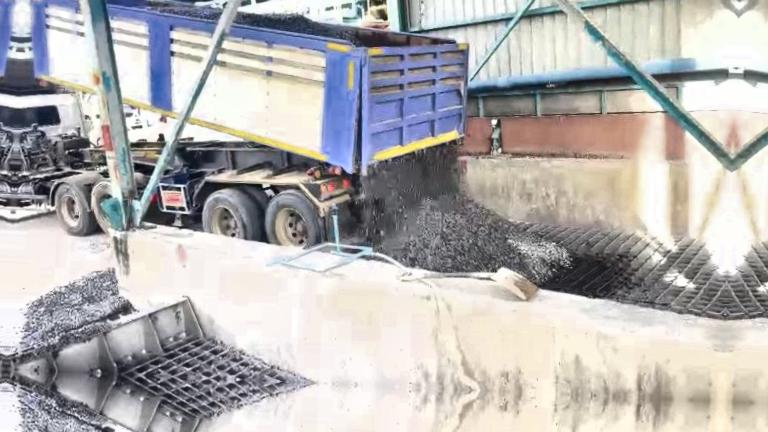gravel: (358, 145, 572, 283), (18, 270, 133, 356), (234, 11, 363, 45), (144, 2, 222, 20)
